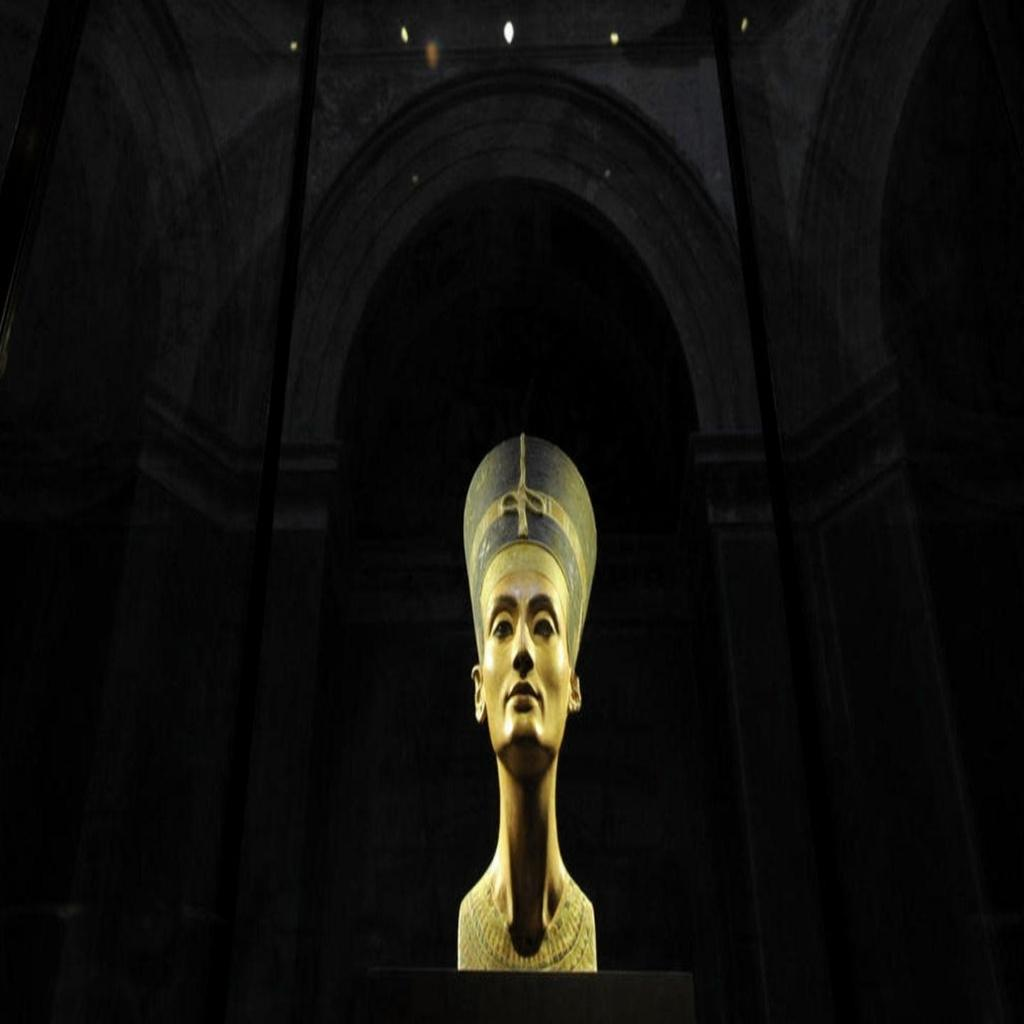Nefertiti: (454, 429, 600, 972)
